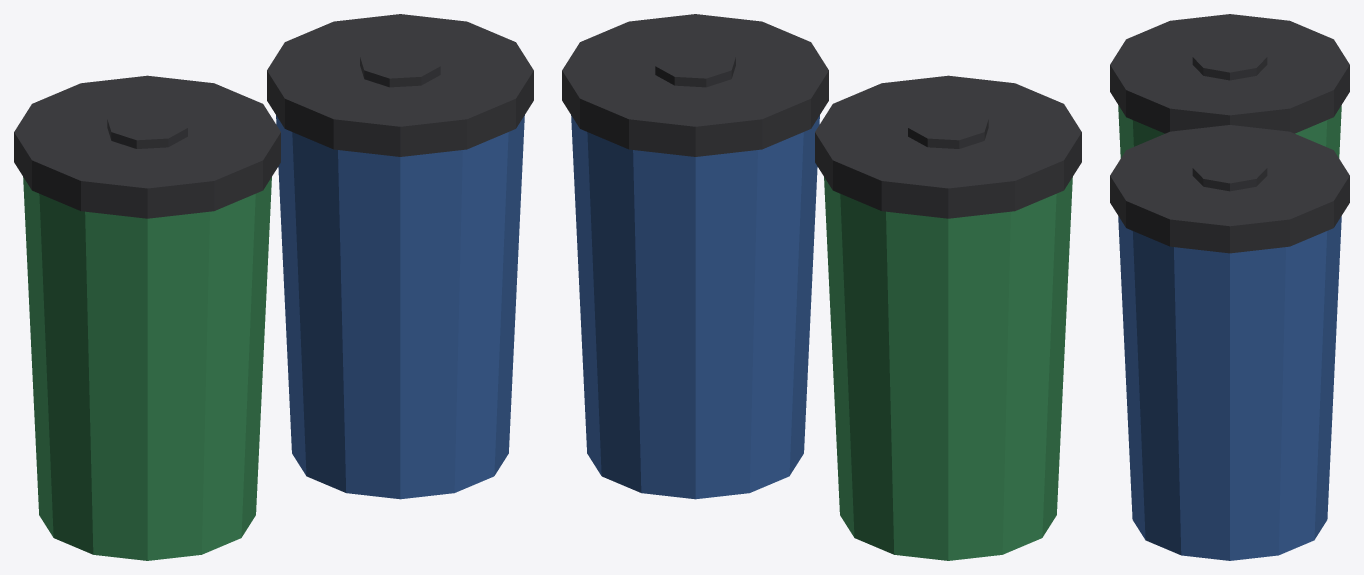
The model's file is dustbin_pair.glb.
The picture shows the model from 3 angles, left to right: view 1: azimuth 30°, elevation 25°; view 2: azimuth 150°, elevation 25°; view 3: azimuth 270°, elevation 25°; orthographic projection. The views are drawn at different scales.
Parts seen in each view (by area): view 1: Dustbin Pair; view 2: Dustbin Pair; view 3: Dustbin Pair.
Part boxes in pixels (bbox=[...]): Dustbin Pair: bbox=[14, 14, 533, 560]; Dustbin Pair: bbox=[562, 14, 1081, 560]; Dustbin Pair: bbox=[1110, 14, 1349, 560].
Size of the model in its own units: 0.402 by 0.311 by 0.192.
